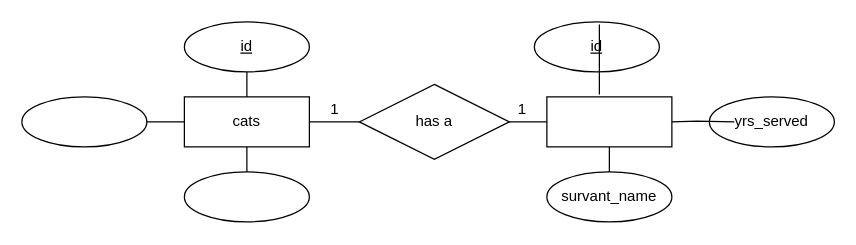
Some shapes in this 856 by 245 pixel diagram are drawn without their labels. The shapes that lost their labels are listed below. From the top down, each one's centre as x and y in pixels, then its label:
At point (84, 121): "cat_name".
At point (609, 121): "servants".
At point (246, 196): "fur_color".
